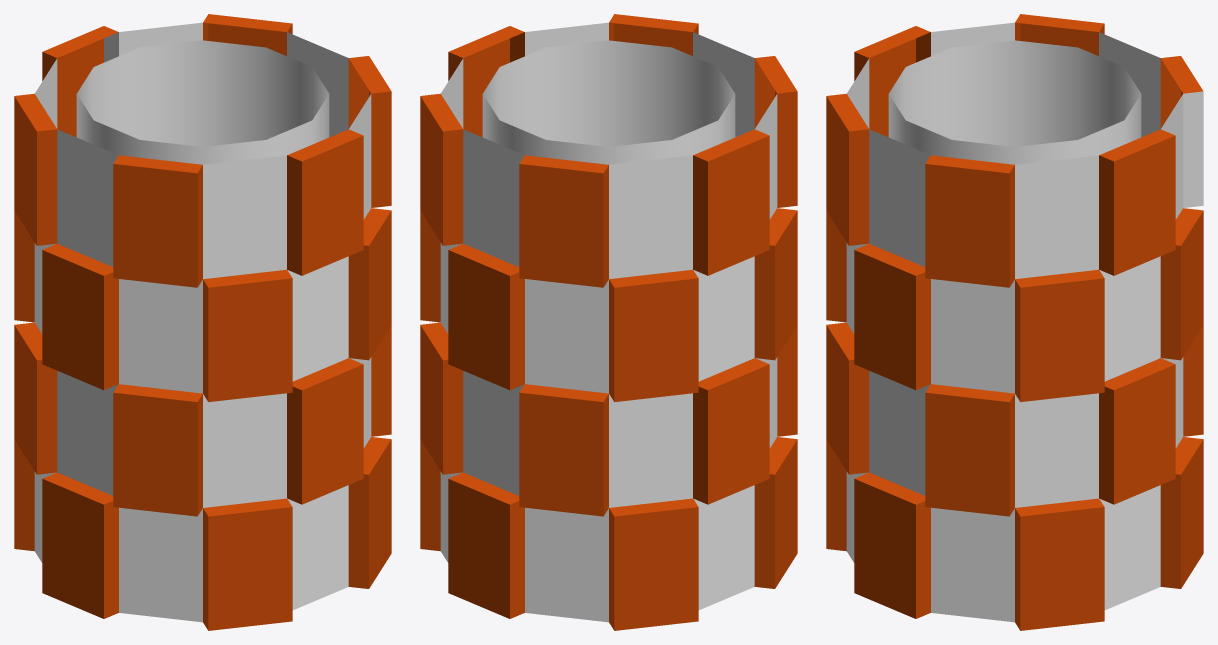
File: TowerMid 1.FBX
The picture shows the model from 3 angles, left to right: view 1: azimuth 30°, elevation 25°; view 2: azimuth 150°, elevation 25°; view 3: azimuth 270°, elevation 25°; orthographic projection.
Parts seen in each view (by area): view 1: Tube001; view 2: Tube001; view 3: Tube001.
Boxes of the visible parts, x1,y1,x2,y2 form: Tube001: [14, 14, 391, 630]; Tube001: [420, 14, 797, 630]; Tube001: [826, 14, 1203, 630].
Bounding box in the file's own units: 179 × 240 × 179.
